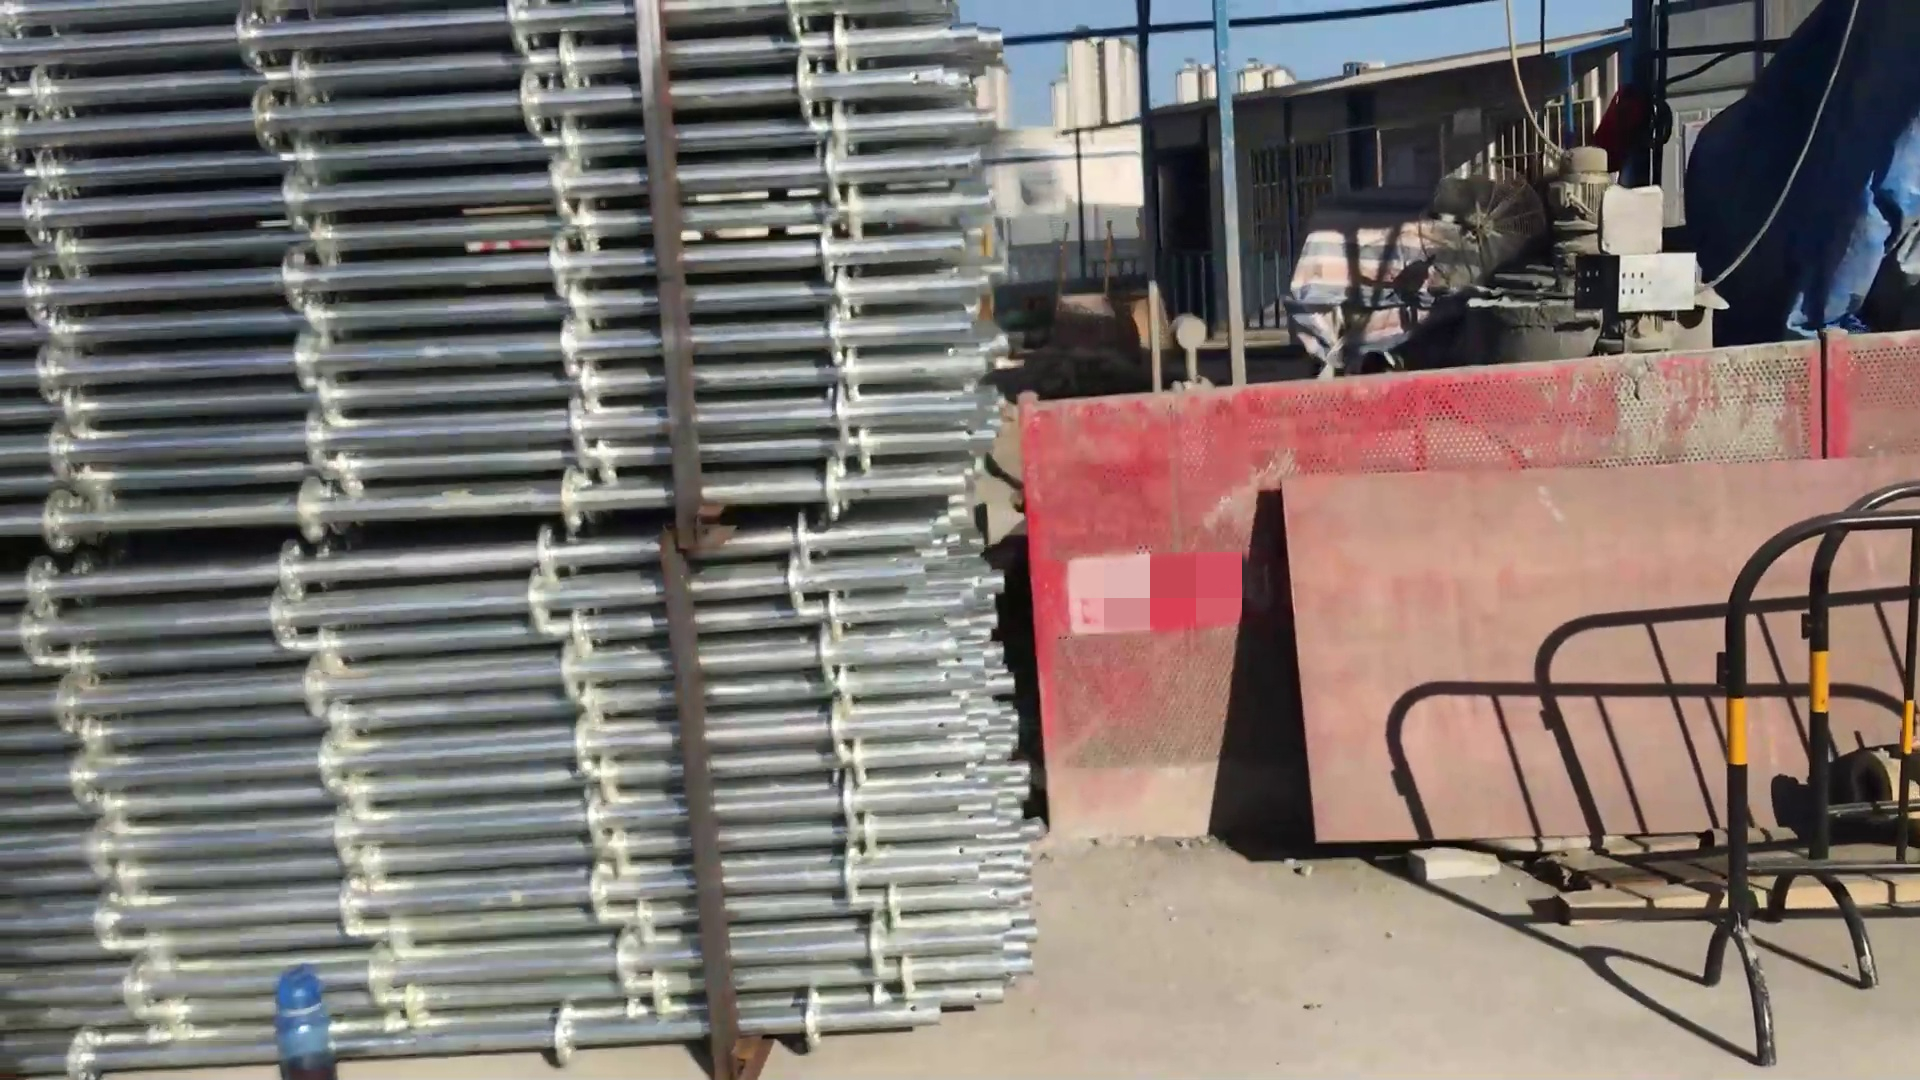fence: (1011, 345, 1701, 868), (1709, 480, 1920, 1062)
scaffold: (4, 3, 1048, 1042)
